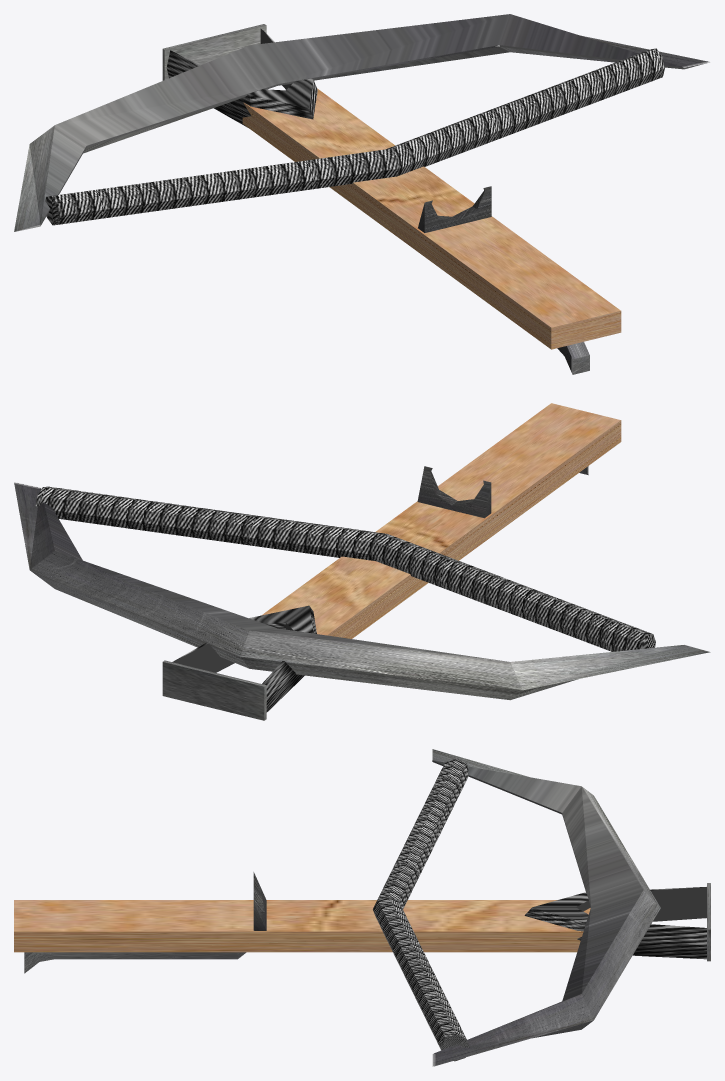
Rendered from Crossbow33.obj.
3 views of the same model, one above another, from view 1: azimuth 30°, elevation 25°; view 2: azimuth 150°, elevation 25°; view 3: azimuth 270°, elevation 25° (orthographic). The views are drawn at different scales.
Parts seen in each view (by area): view 1: Sphere; view 2: Sphere; view 3: Sphere.
Part boxes in pixels (x1,y1,x2,y2): Sphere: [14, 14, 710, 374]; Sphere: [14, 403, 710, 720]; Sphere: [14, 749, 710, 1066].
Size of the model in its own units: 5.04 by 0.6142 by 4.67.
